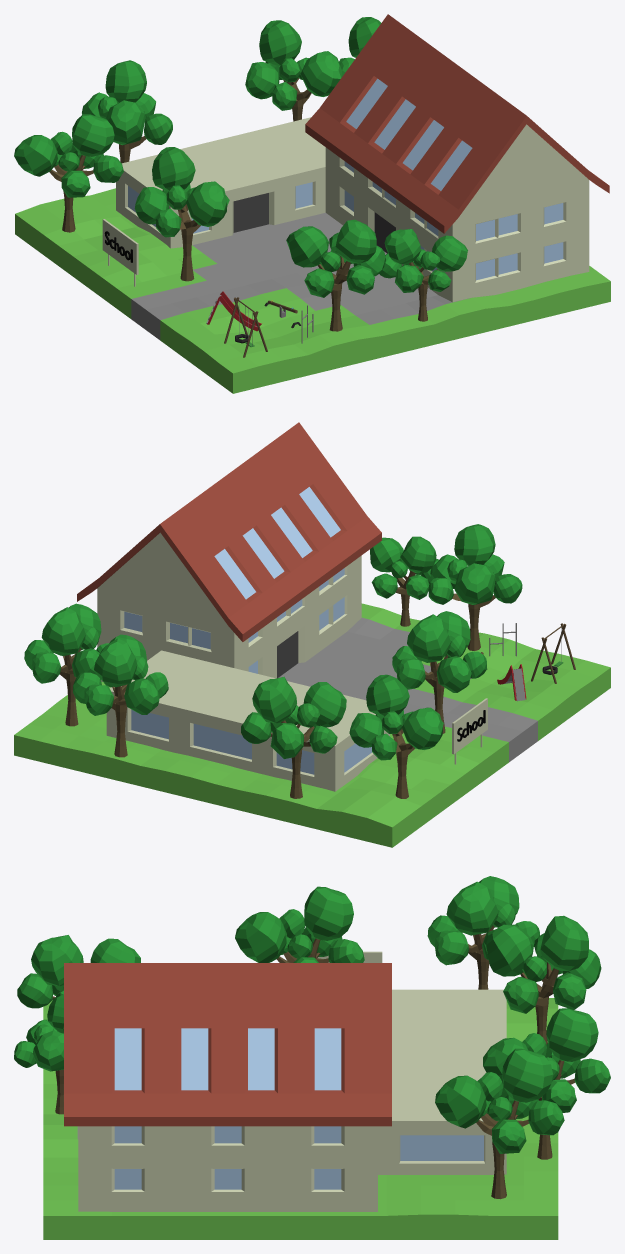
File: School.fbx
3 views of the same model, one above another, from view 1: azimuth 30°, elevation 25°; view 2: azimuth 150°, elevation 25°; view 3: azimuth 270°, elevation 25° (orthographic). The views are drawn at different scales.
Visible parts, largest first — view 1: Text; view 2: Text; view 3: Text.
Boxes of the visible parts, box(x1,y1,x2,y2) form: Text: box(14, 14, 610, 393); Text: box(14, 422, 610, 847); Text: box(14, 876, 610, 1239).
Size of the model in its own units: 1786 by 823 by 1905.
